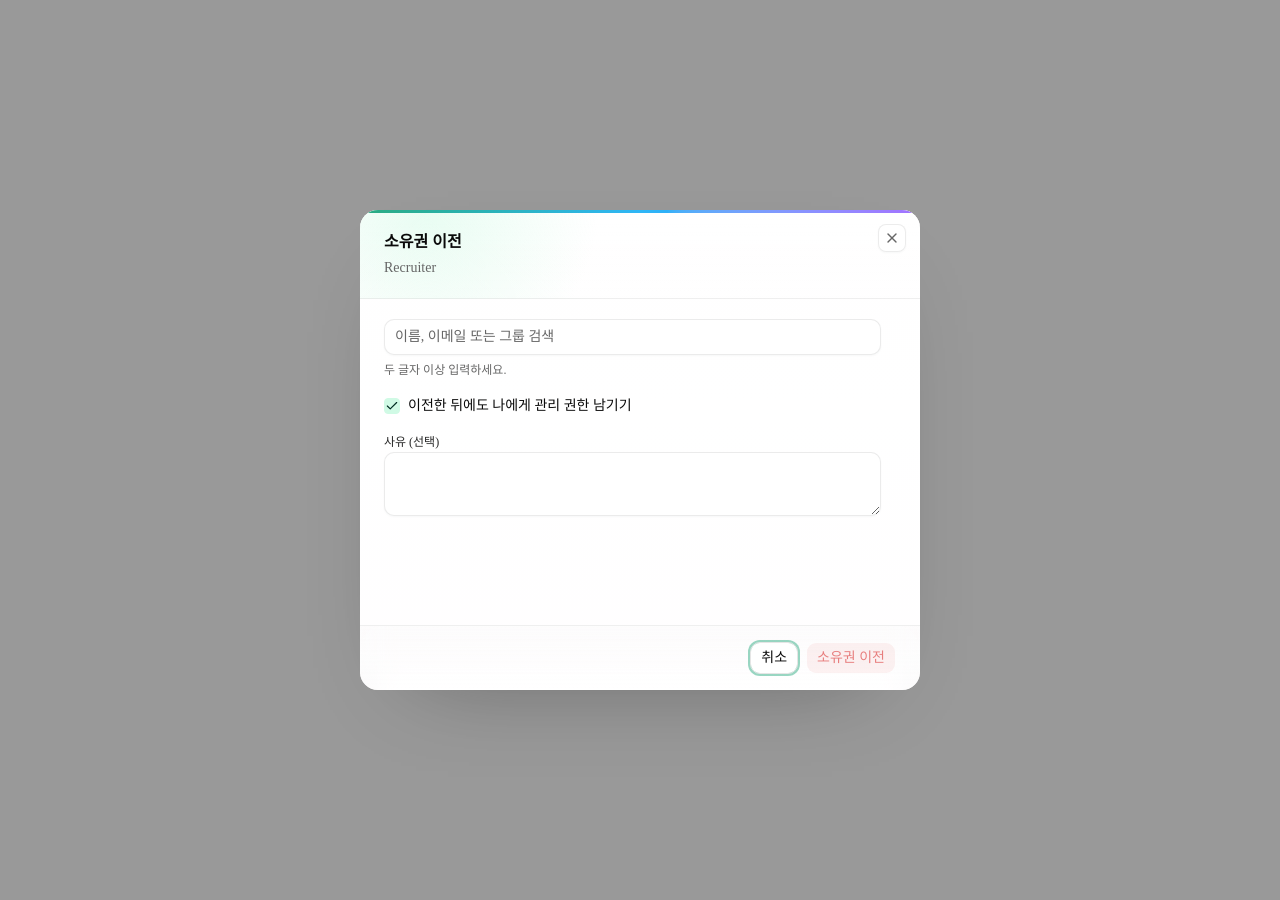
Test case: TransferOwnershipDialog › lists the dependents that block the transfer
The image size is (1280, 900).
In the dropdown named "새 소유자": (632, 337) x1=384 y1=319 x2=881 y2=355, type "Jun"
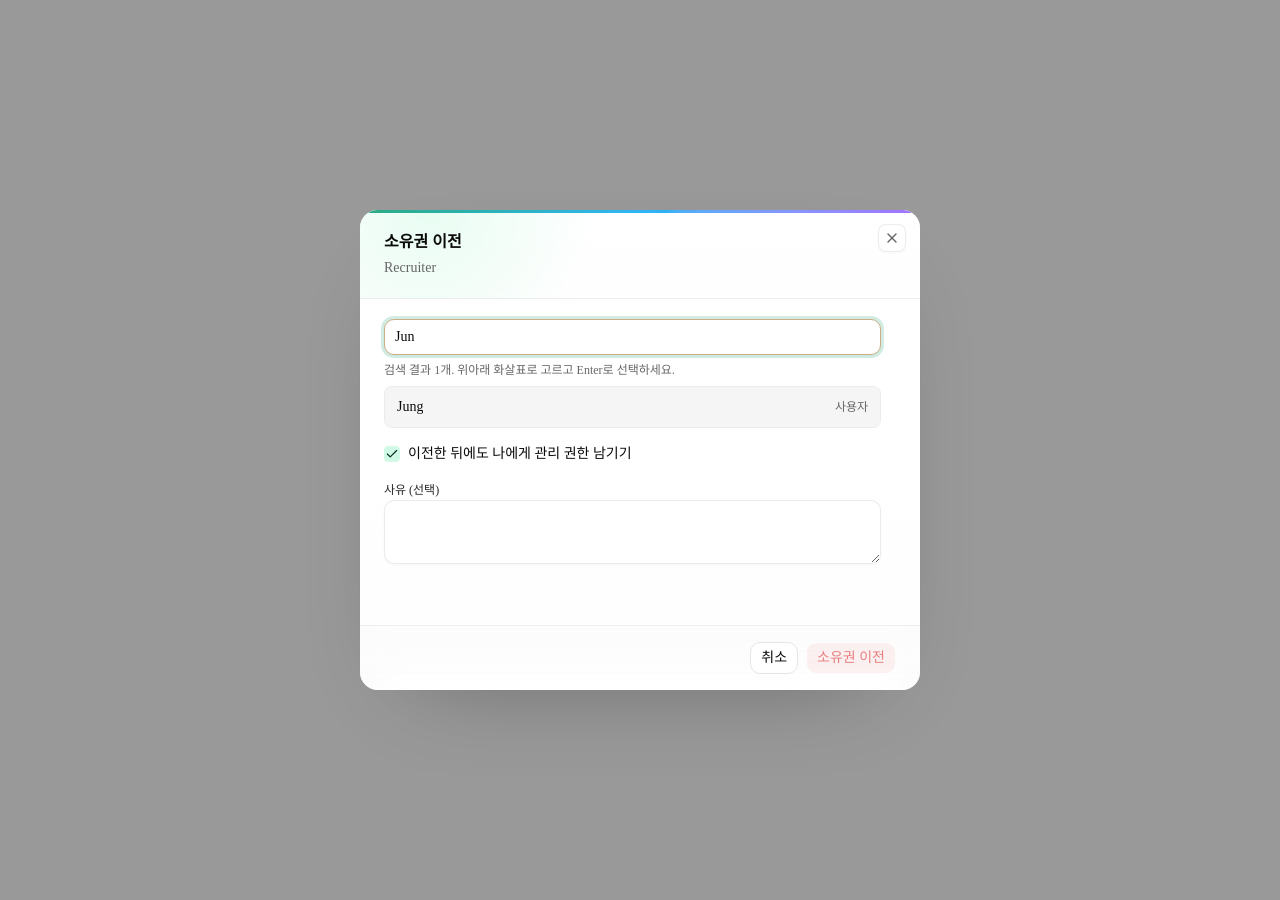
expect the option "Jung 사용자" is shown: met, box x1=385 y1=387 x2=880 y2=427
Press Enter
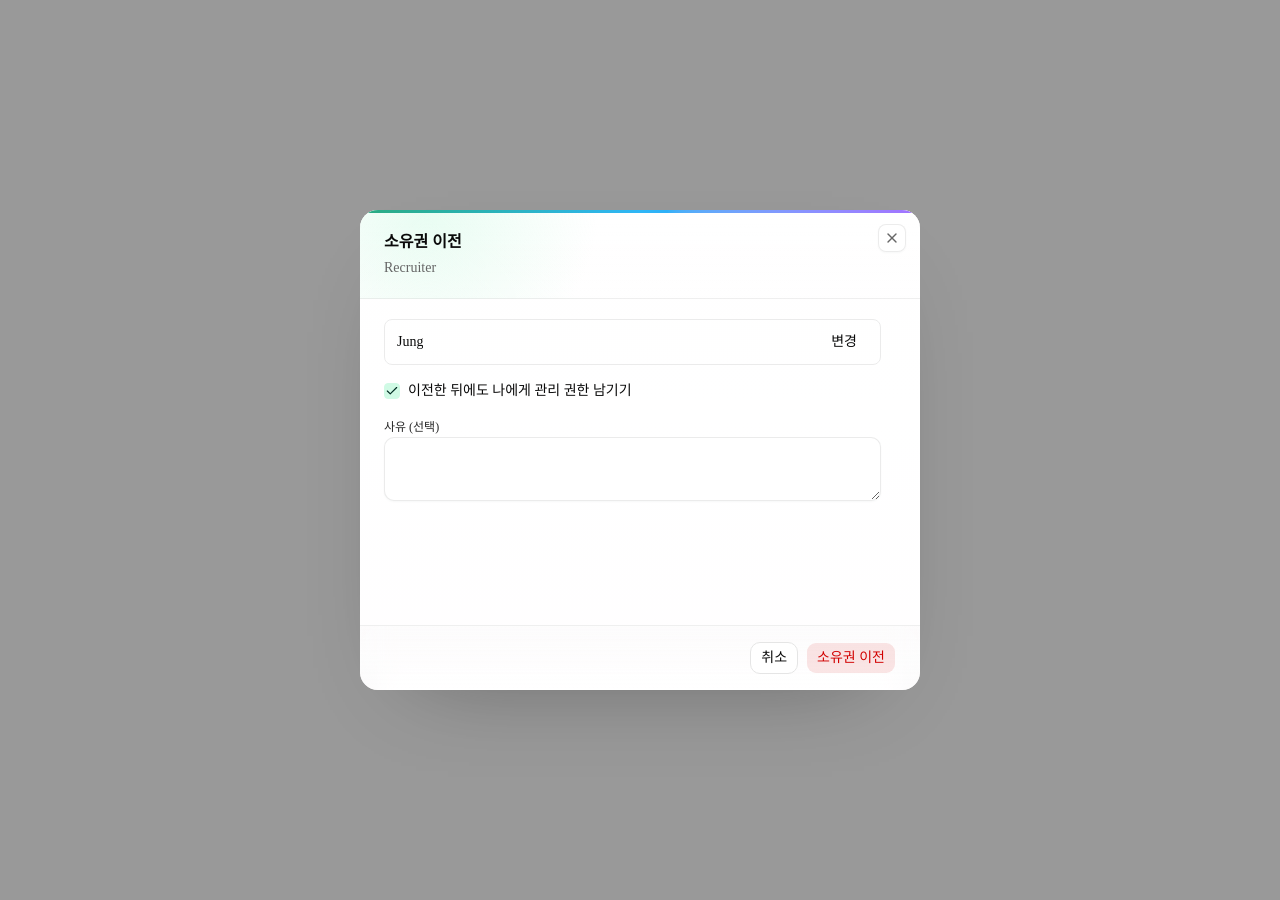
Click the button "소유권 이전": (851, 658) x1=806 y1=642 x2=896 y2=674
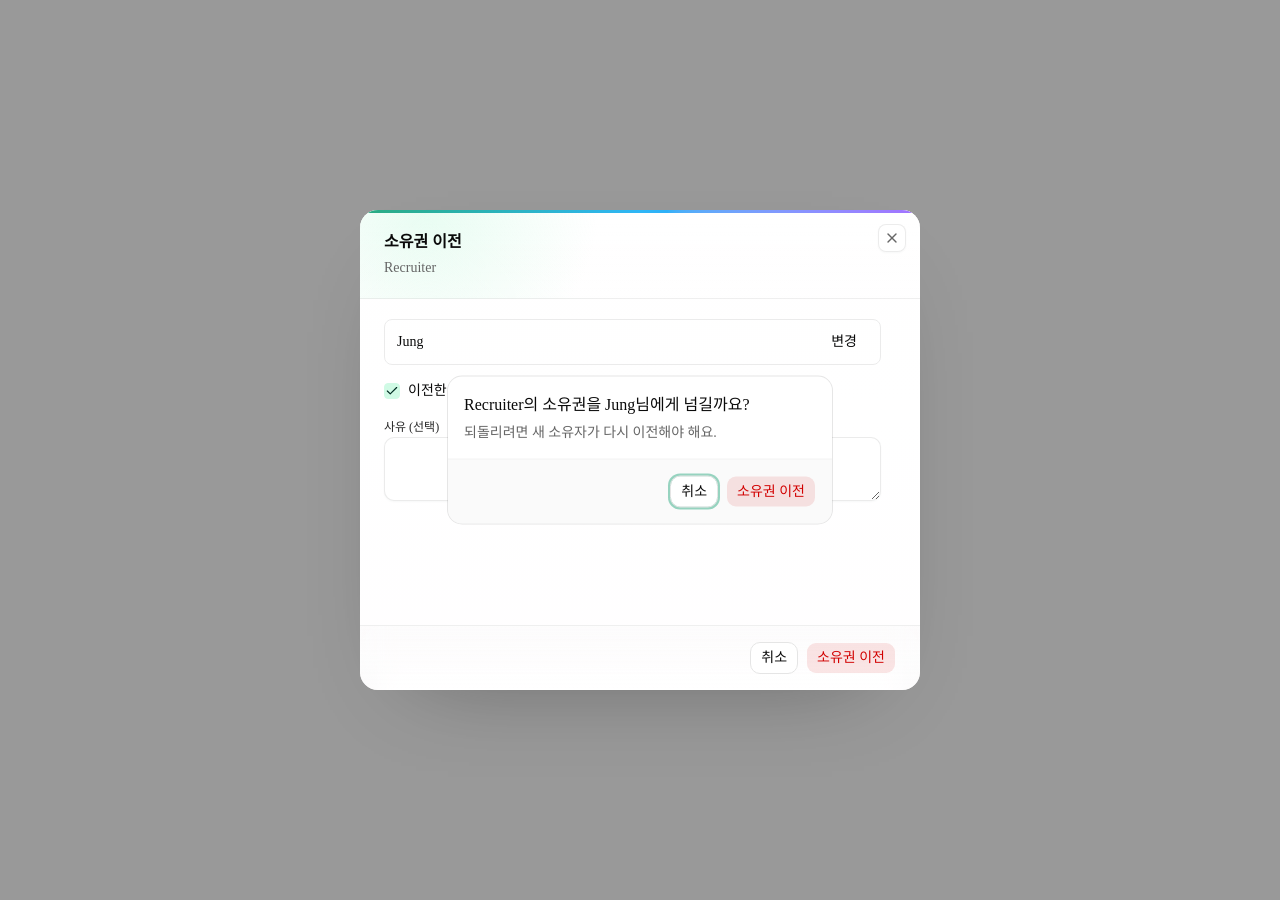
Click the button "소유권 이전" below "되돌리려면 새 소유자가 다시 이전해야 해요.": (771, 492) x1=726 y1=476 x2=816 y2=508
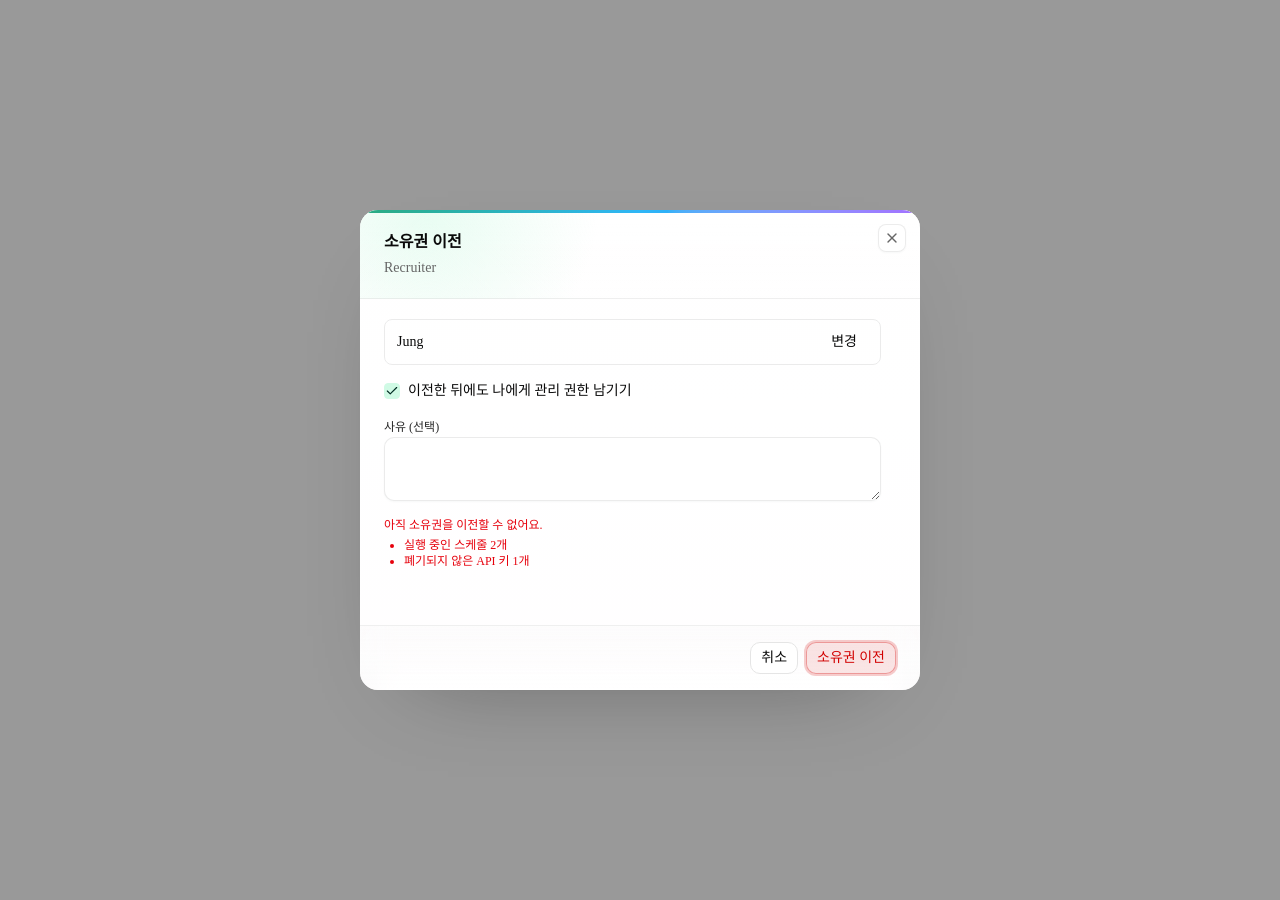
expect the message shows "실행 중인 스케줄 2개": met, box x1=404 y1=538 x2=507 y2=552
expect the message shows "폐기되지 않은 API 키 1개": met, box x1=404 y1=554 x2=530 y2=568
